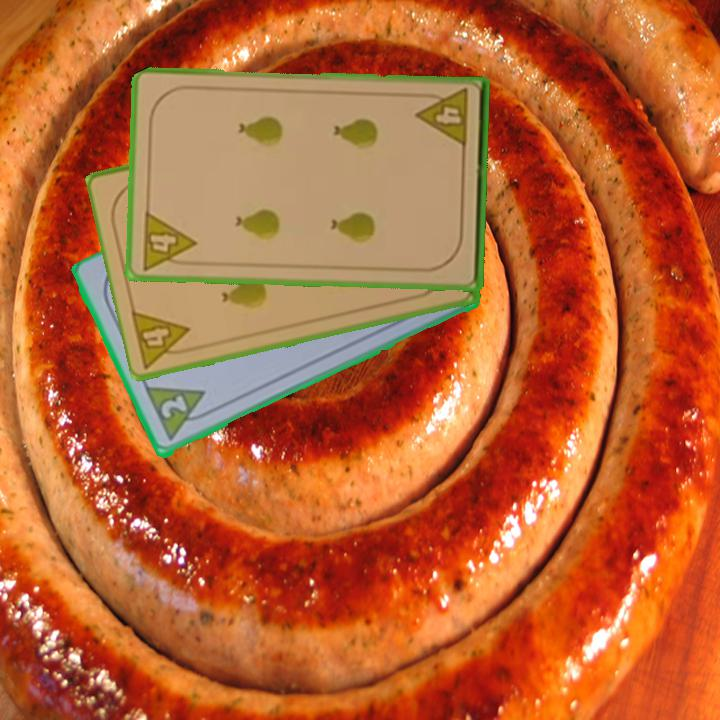2p: (141, 383, 217, 445)
4p: (128, 307, 200, 371), (138, 208, 199, 273), (413, 85, 471, 151)
